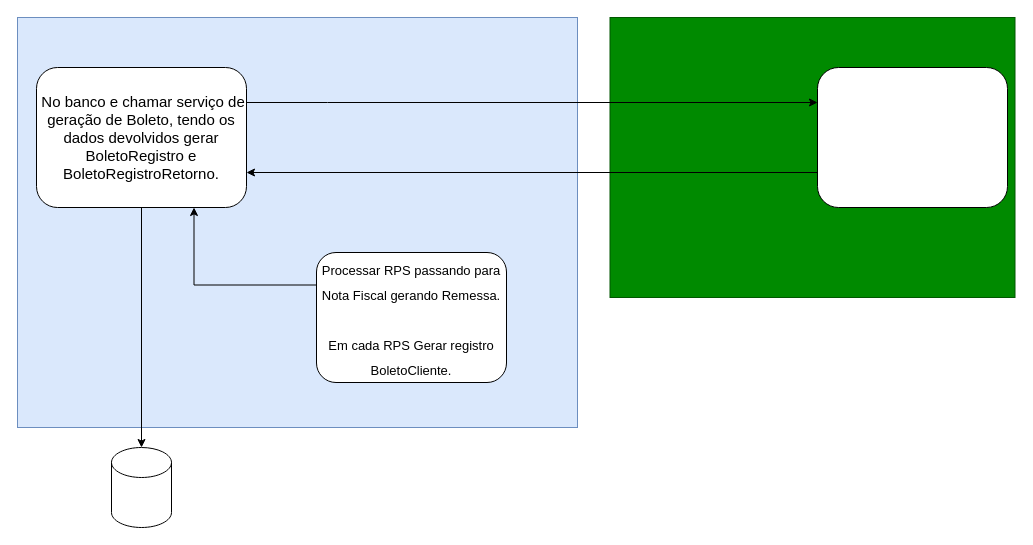
Image size: 1033x545. Some labels were removed from this diagram. The shapes that lost their labels are listed below. From the top down, each one's centre as x and y in pixels, then its label:
At [912,137]: "Chamar Serviço Itau. Gerar NossoNumero. Devolver Informações".
At [141,487]: "Banco".
